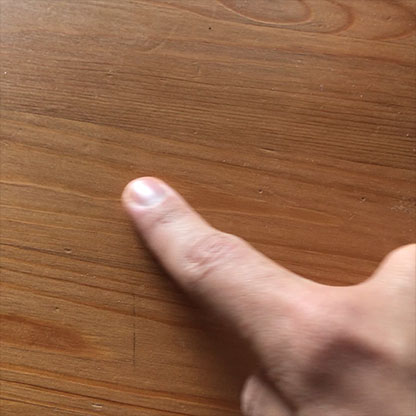fingertip: (112, 170, 183, 225)
